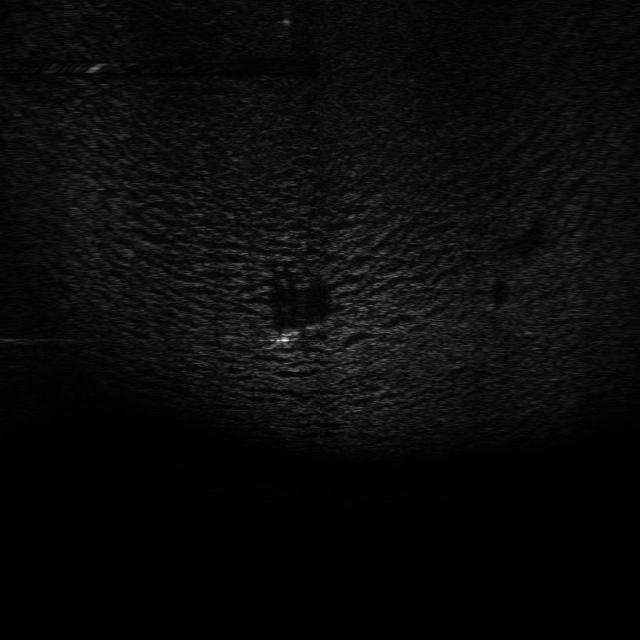plane: (262, 319, 336, 352)
